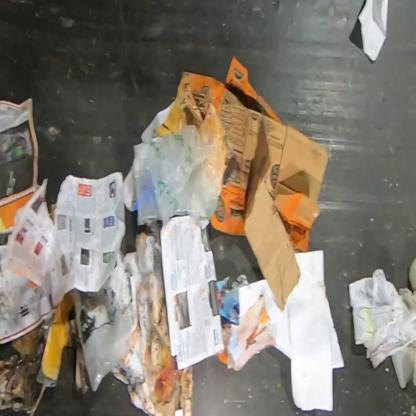cardboard: (153, 54, 329, 312), (34, 292, 90, 393), (0, 319, 50, 415)
soft_plastic: (131, 119, 228, 226), (68, 278, 134, 392), (391, 338, 415, 390), (397, 287, 415, 315)
